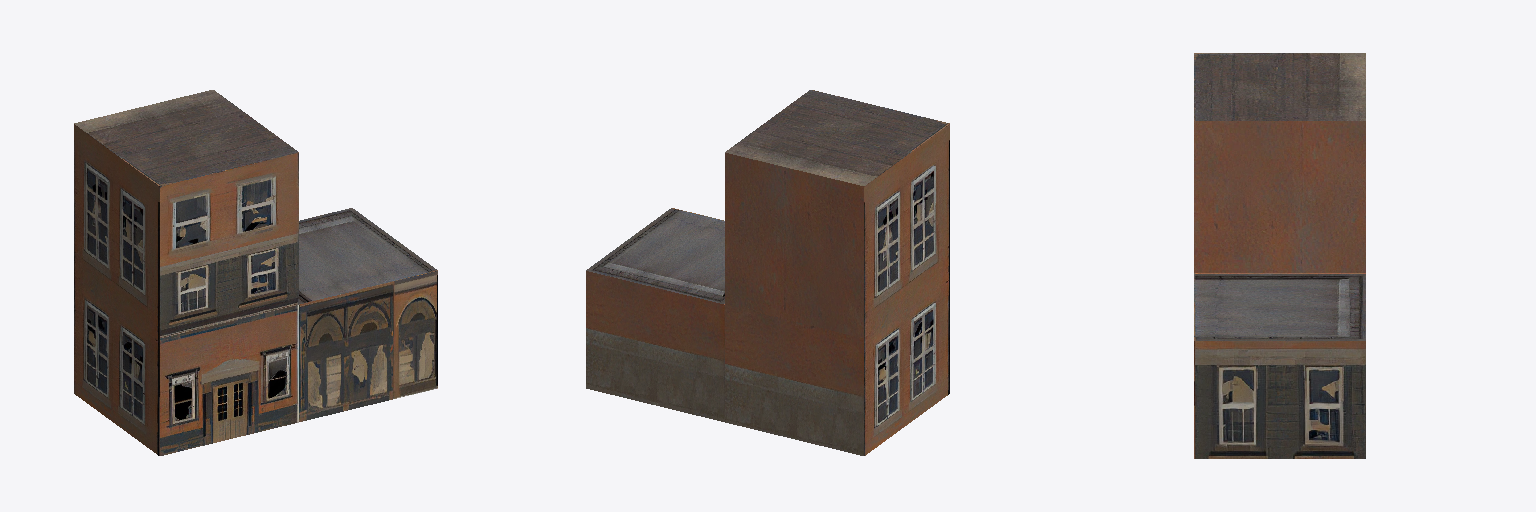
3 renders of one model, left to right at view 1: azimuth 30°, elevation 25°; view 2: azimuth 150°, elevation 25°; view 3: azimuth 270°, elevation 25°, orthographic.
Visible parts, largest first — view 1: Cube; view 2: Cube; view 3: Cube.
Boxes of the visible parts, <box> form: Cube: <box>74,90,437,455</box>; Cube: <box>586,90,949,455</box>; Cube: <box>1194,53,1365,458</box>.
Size of the model in its own units: 24.01 by 22.22 by 12.84.
Materials: 1 (1 with a texture image).